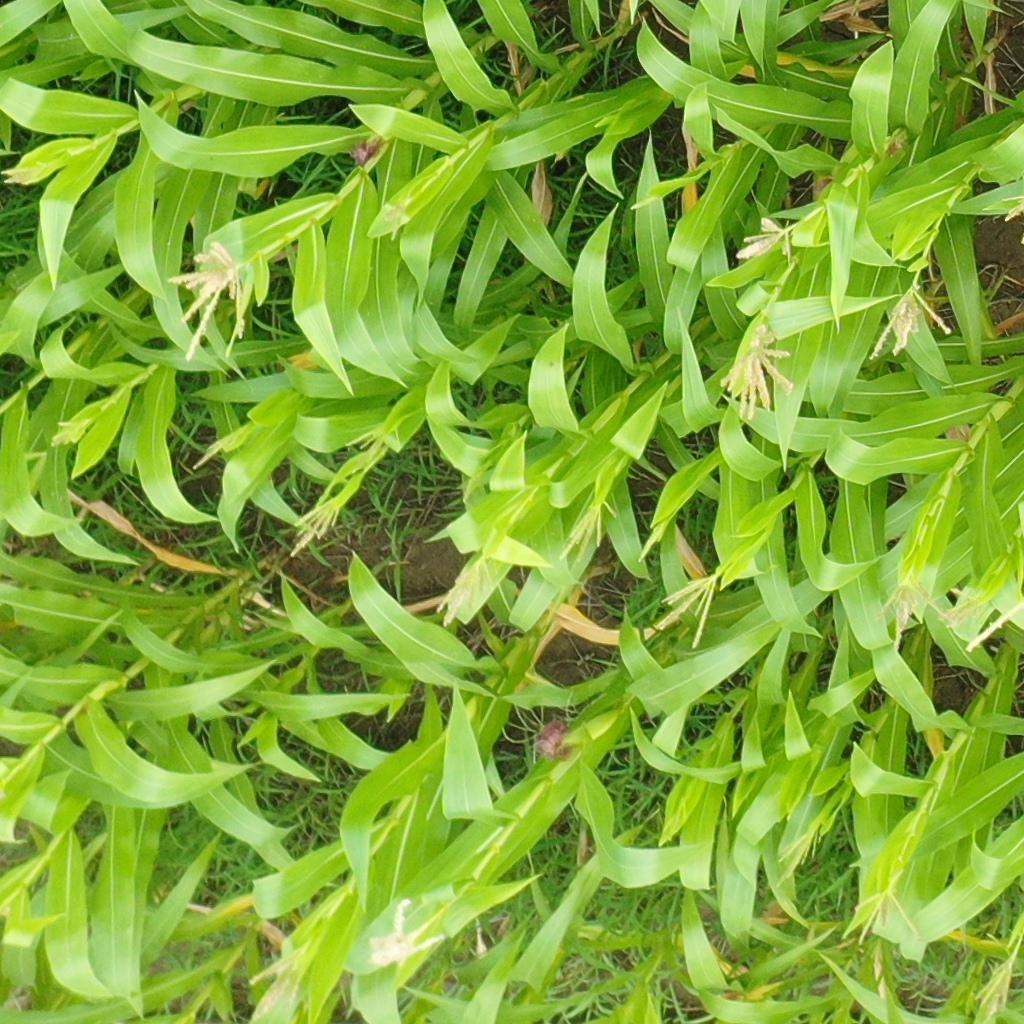Tassel: (168, 240, 257, 363), (716, 323, 793, 420), (879, 568, 957, 653), (872, 282, 953, 361), (435, 551, 502, 628), (250, 940, 311, 1022), (849, 883, 924, 948), (368, 900, 444, 964), (659, 571, 720, 650), (974, 935, 1023, 1020), (559, 499, 618, 561), (776, 822, 826, 888), (289, 498, 342, 560), (736, 218, 795, 265), (345, 424, 399, 471), (945, 586, 994, 632), (377, 194, 413, 240), (1, 159, 48, 185), (664, 796, 690, 843), (49, 419, 91, 447), (192, 438, 224, 473), (640, 524, 664, 565), (999, 195, 1024, 224)
